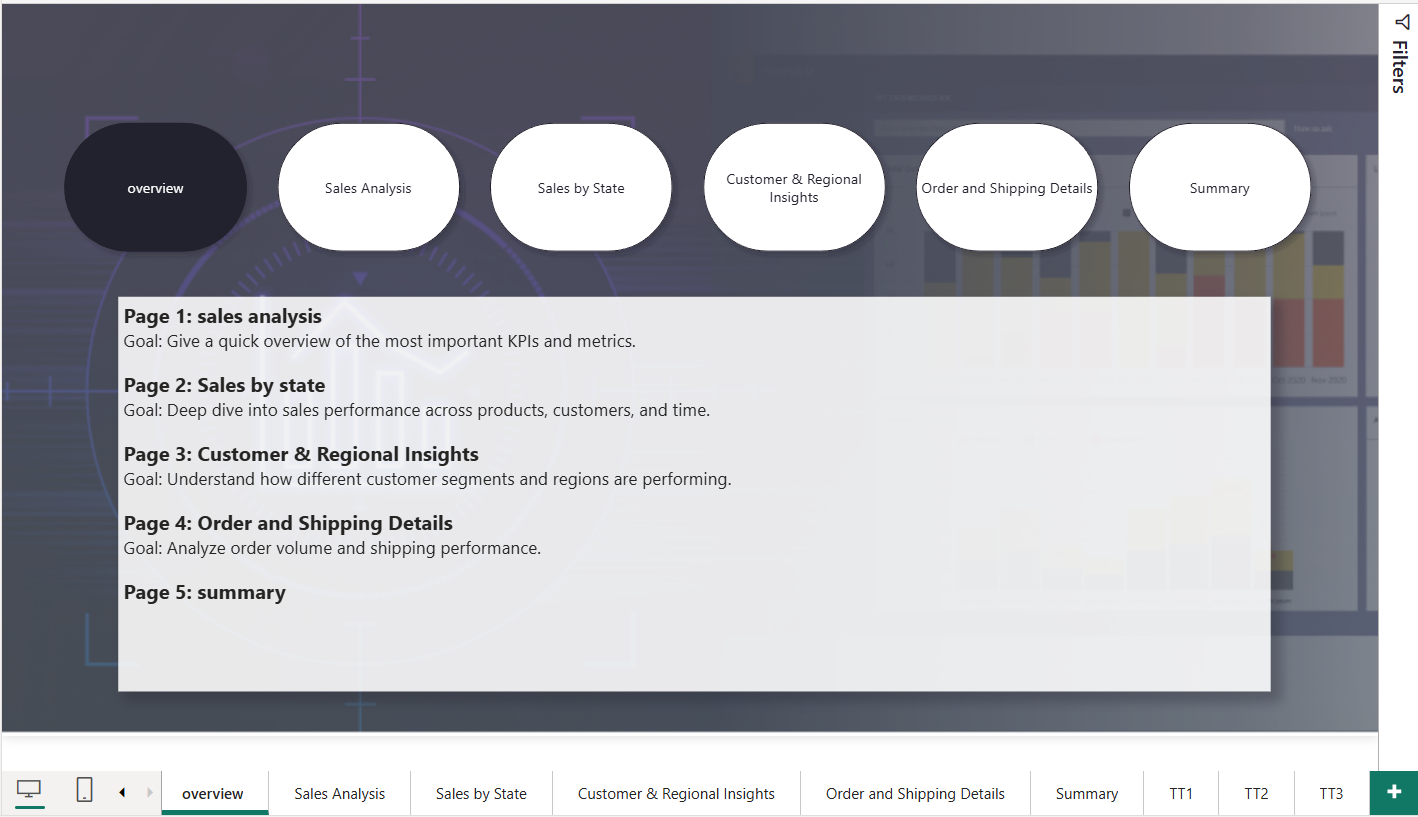

The page's visual inventory and layout, read from the dashboard file:
{"tool":"powerbi","page":{"name":"overview","canvas":[1280,720],"ordinal":0},"visuals":[{"type":"textbox","box":[108.1,310.5,1072.1,367.4],"z":0},{"type":"pageNavigator","box":[49.2,140.1,1179.1,138.2],"z":1000}]}

Visuals, with their boxes on the page's 1280x720 design canvas (x1, y1, x2, y2). These are canvas units, not pixel positions in the 1418x817 screenshot, which may show the page scaled, cropped or inside an application window:
textbox: box(108, 310, 1180, 678)
pageNavigator: box(49, 140, 1228, 278)
